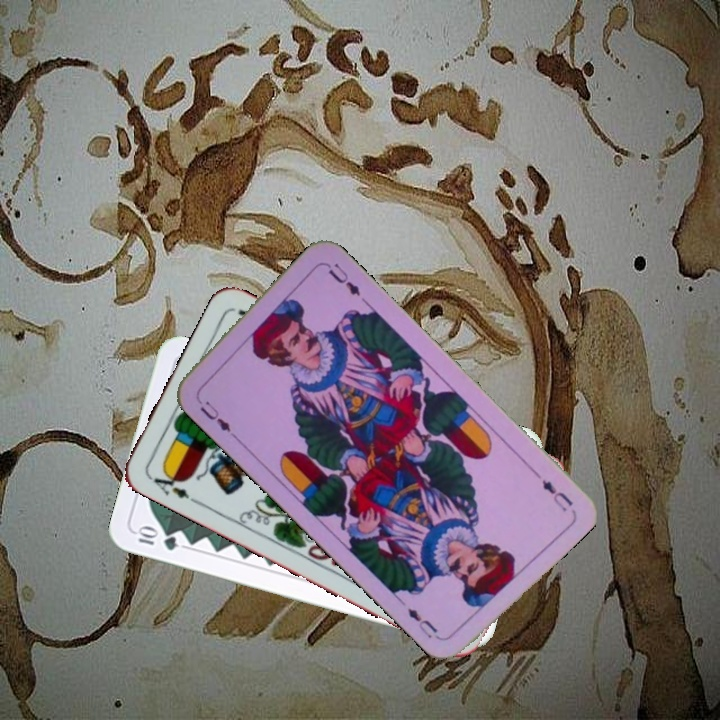EA: (145, 466, 201, 506)
EU: (192, 392, 238, 439), (537, 475, 576, 514)
G10: (132, 524, 180, 553)
